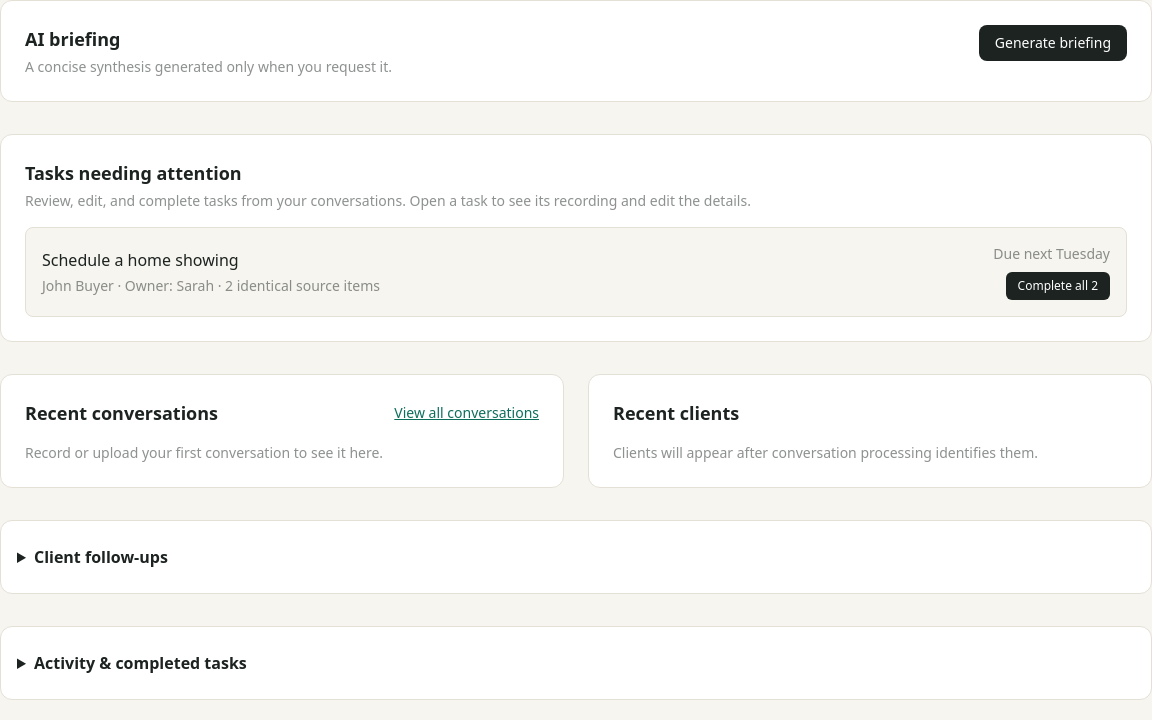
it: SummaryCards interactions › records client contact and confirms success
The width and height of the screenshot is (1152, 720).
Click the heading "Client follow-ups".
click(101, 557)  # box [34,546,168,568]
(page scrolled)
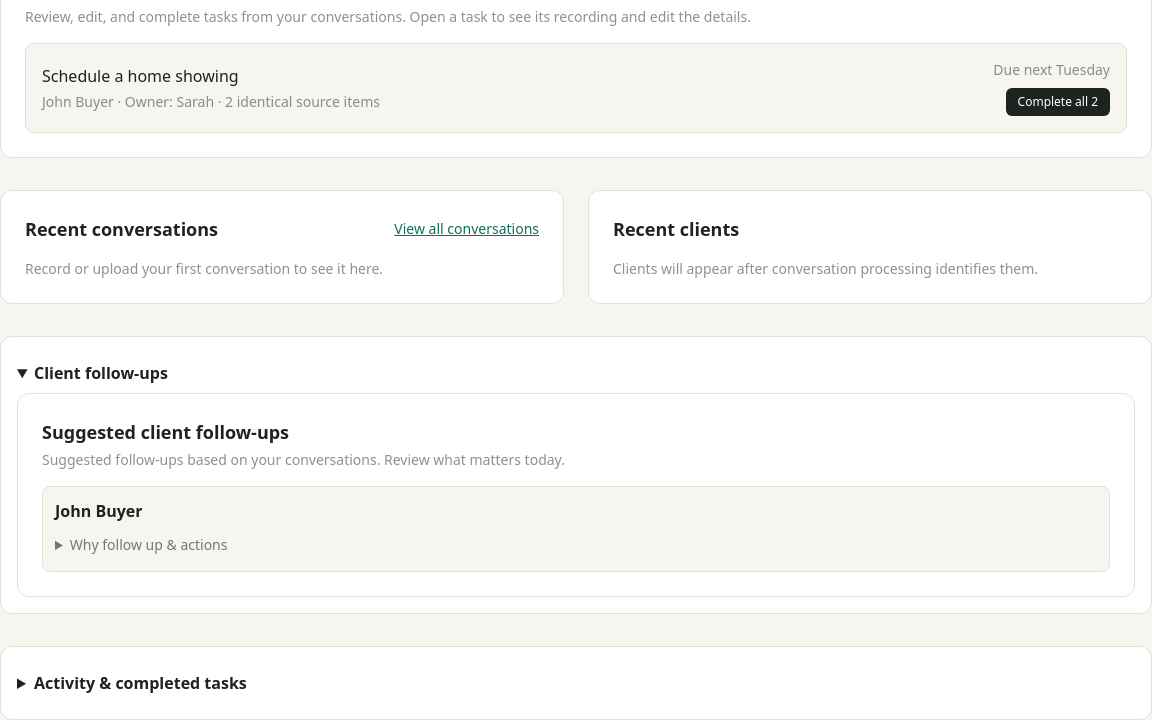
Click the heading "Why follow up & actions".
click(149, 544)  # box [70,535,228,554]
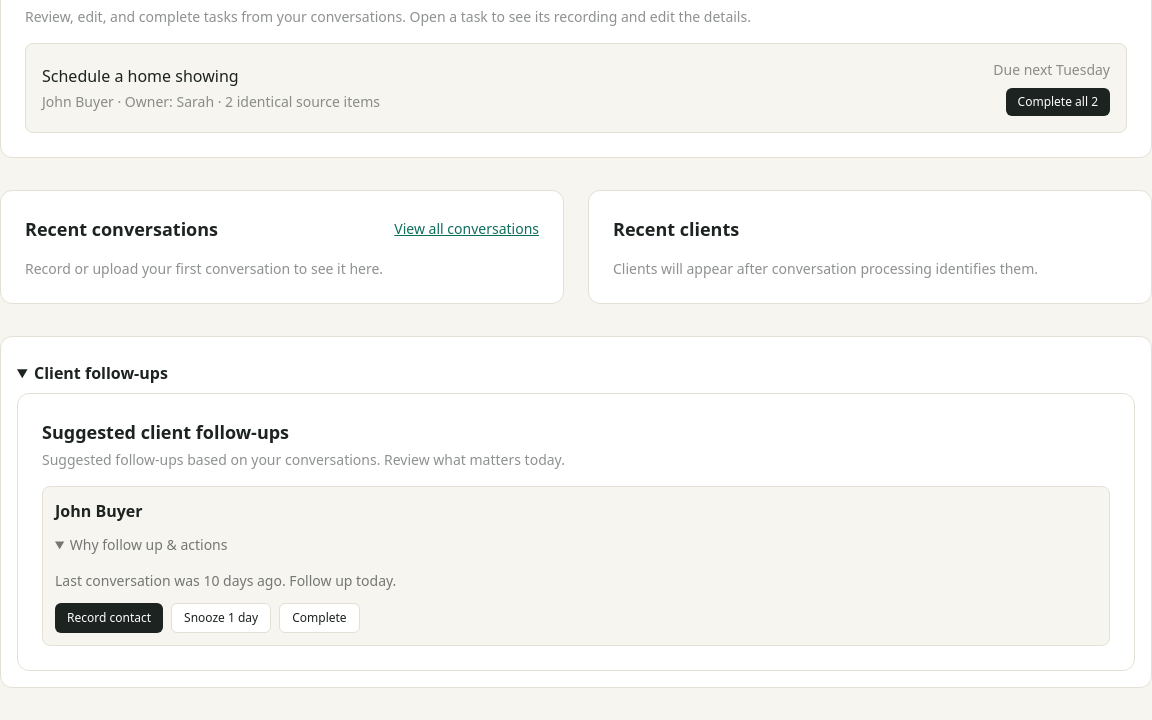
Click the button "Record contact".
click(109, 618)  # box [55,603,163,633]
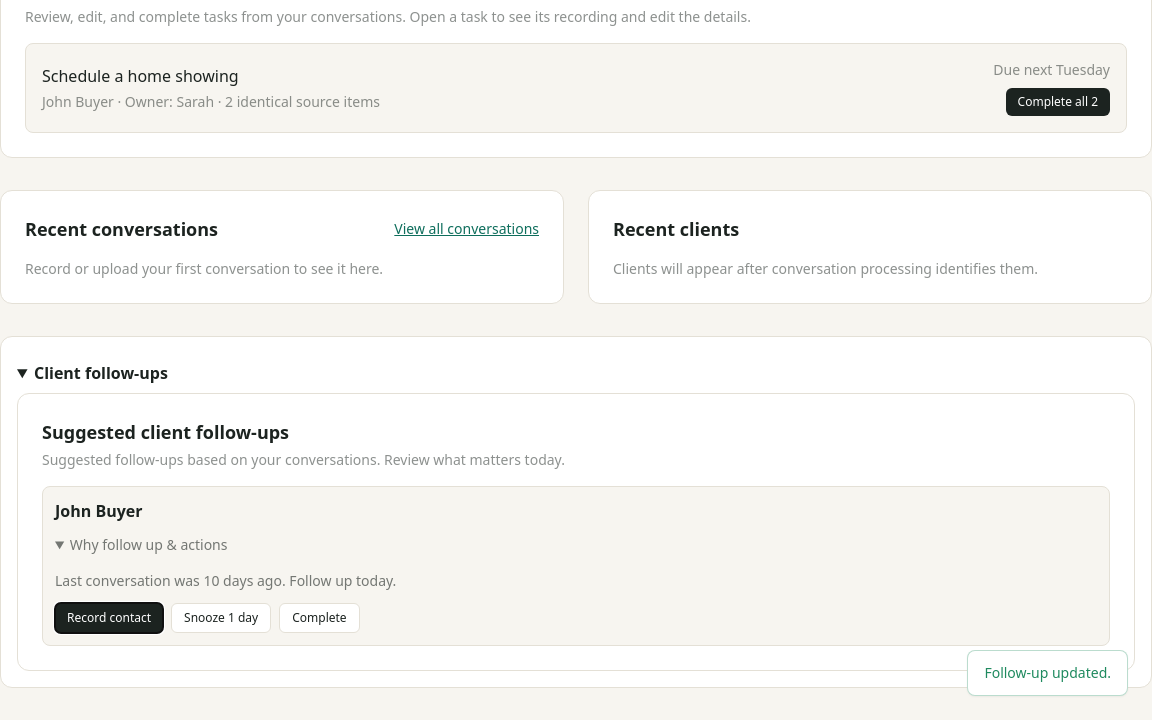
Result: the message reads "Follow-up updated." at [984,663,1111,682]
